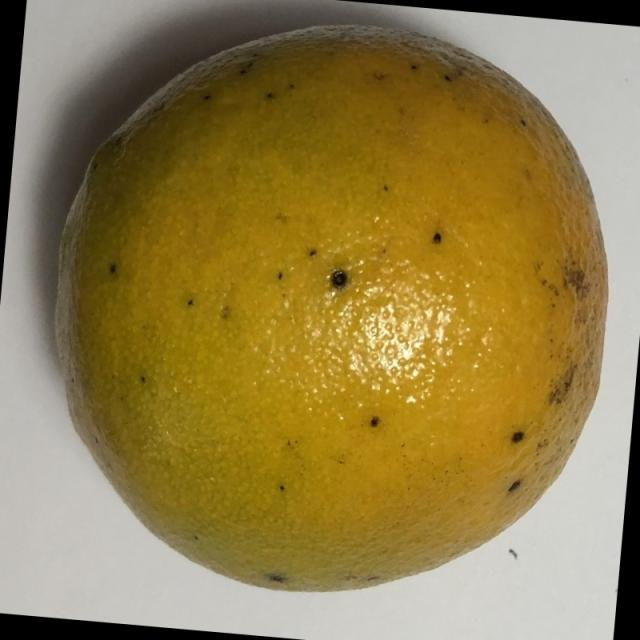black spot: (43, 16, 621, 595)
